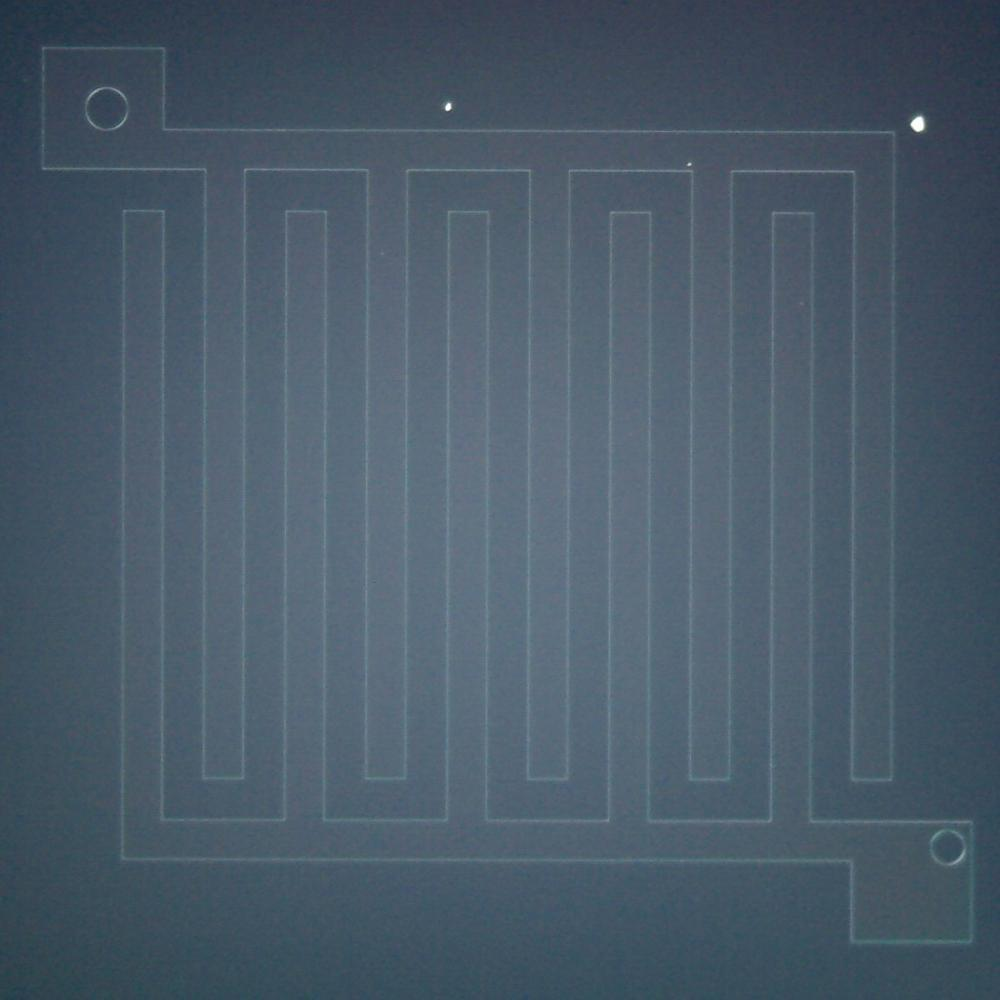circle: (78, 78, 136, 134), (923, 824, 973, 870)
dot: (678, 155, 700, 176)
spot: (899, 104, 938, 146)
